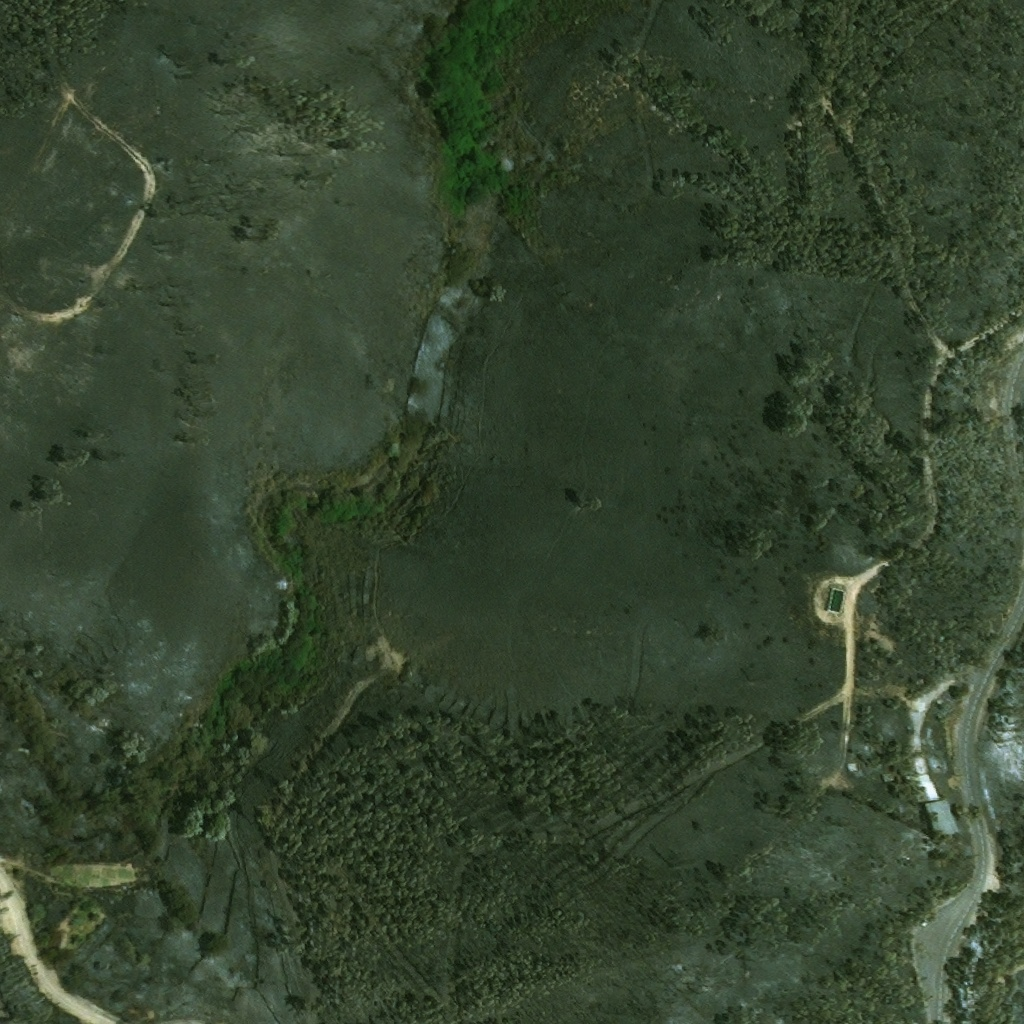1 minor-damage: (921, 797, 960, 839)
